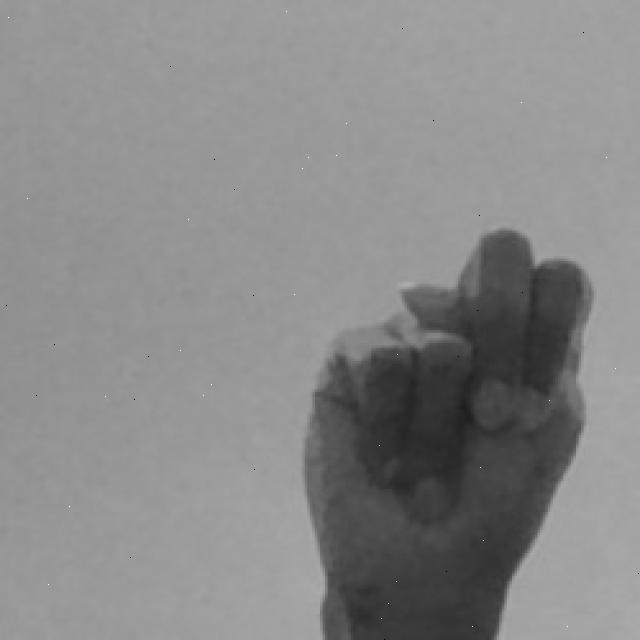N: (297, 211, 607, 640)
